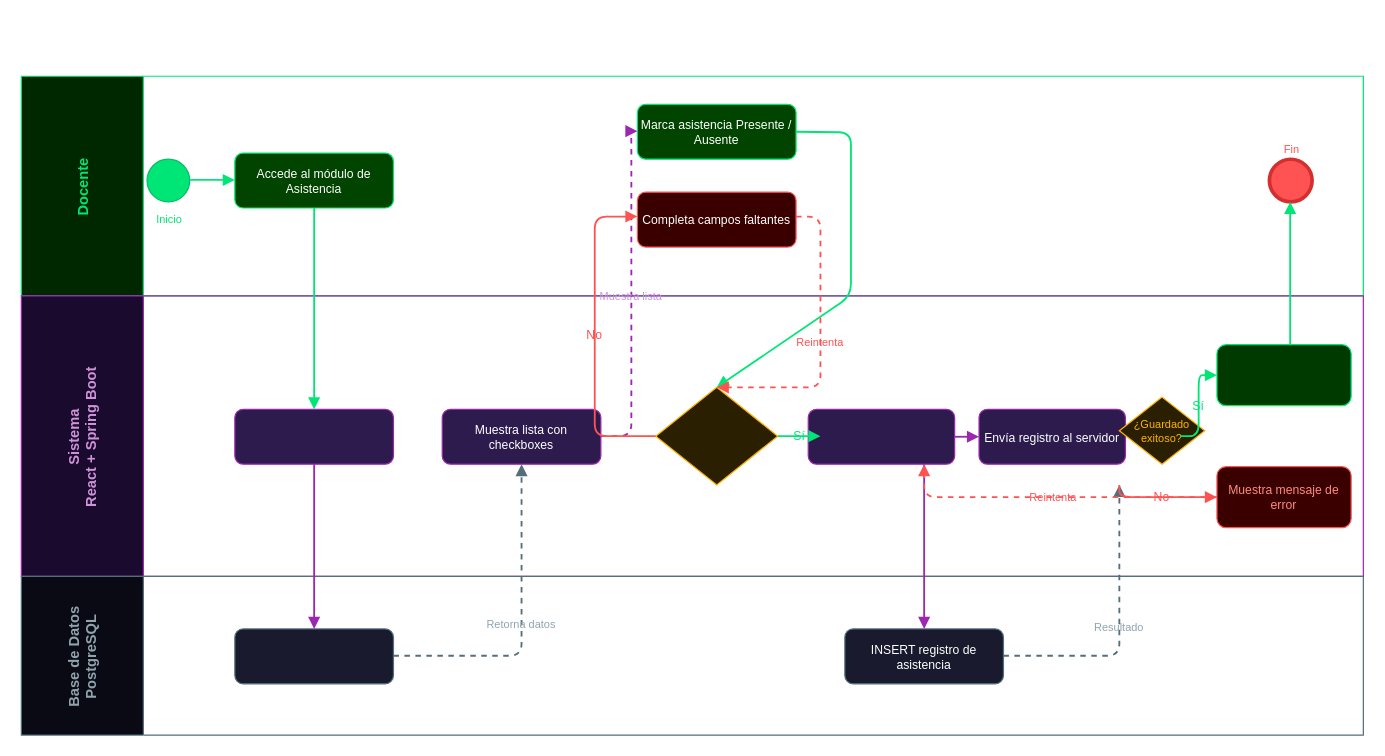
This 1385x756 diagram has some shape labels left out. Each missing label, with the centre of its shape:
Carga lista de estudiantes del curso: (313,436)
Muestra confirmación exitosa: (1283,374)
SELECT estudiantes del curso: (313,656)
Valida registro de asistencia: (881,436)
¿Todos marcados?: (716,435)
